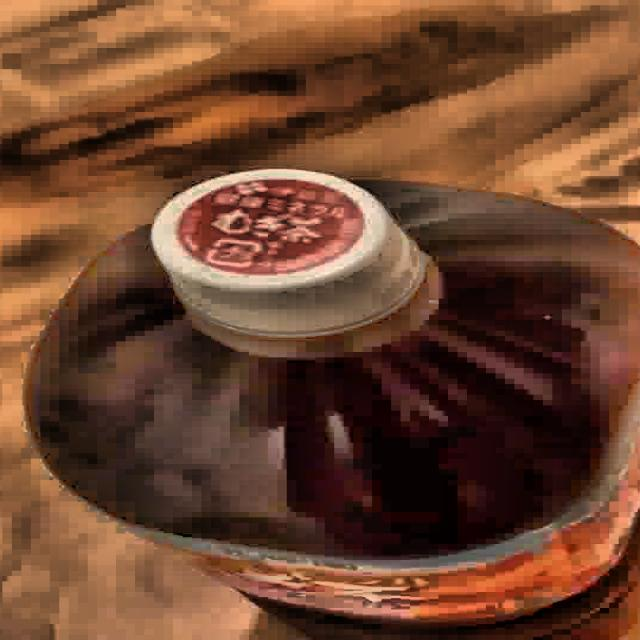plastic: (13, 157, 640, 640)
